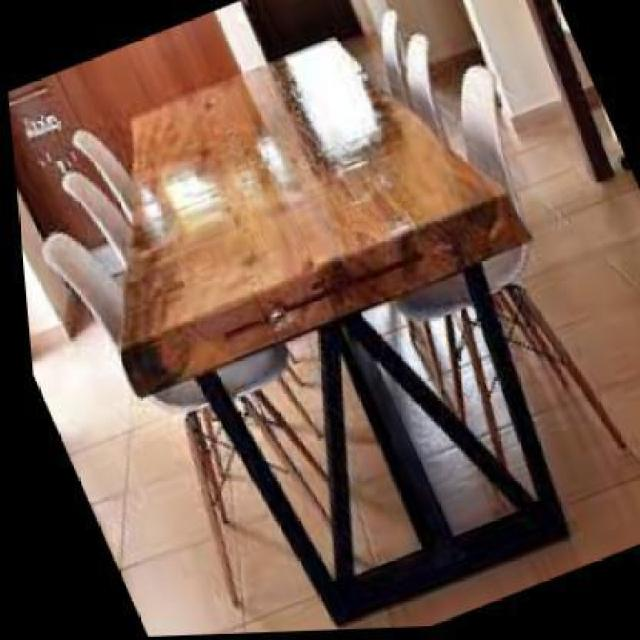tables: (6, 0, 569, 625)
